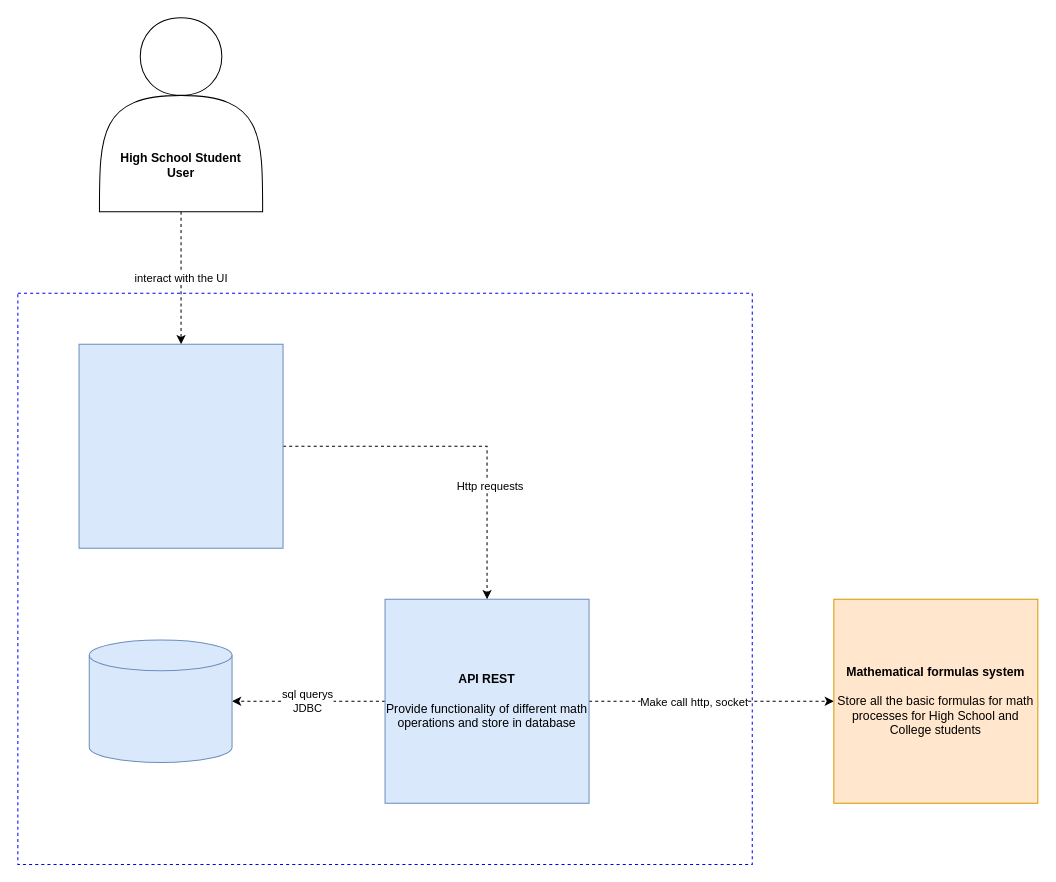
The diagram is 1056 pixels wide and 882 high, and some of its shapes have lost their labels. Each missing label, with the box of its shape:
Database Allow store history operations: (88, 639, 232, 762)
Single page application Provide a user interface where they can do a operation: (78, 343, 283, 548)
